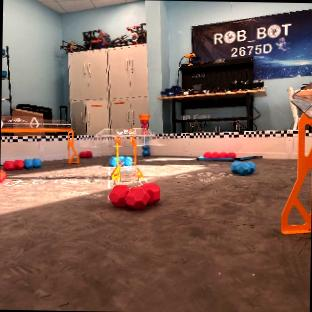Goal: (281, 83, 312, 233), (0, 116, 78, 162)
Med_goal: (90, 128, 168, 180)
Parking - B: (196, 156, 261, 161)
V5_BLUE: (230, 160, 255, 175), (23, 158, 41, 168), (141, 138, 149, 156)
V5_RED: (108, 183, 159, 209), (3, 159, 24, 170), (203, 151, 235, 157), (79, 150, 92, 157)
